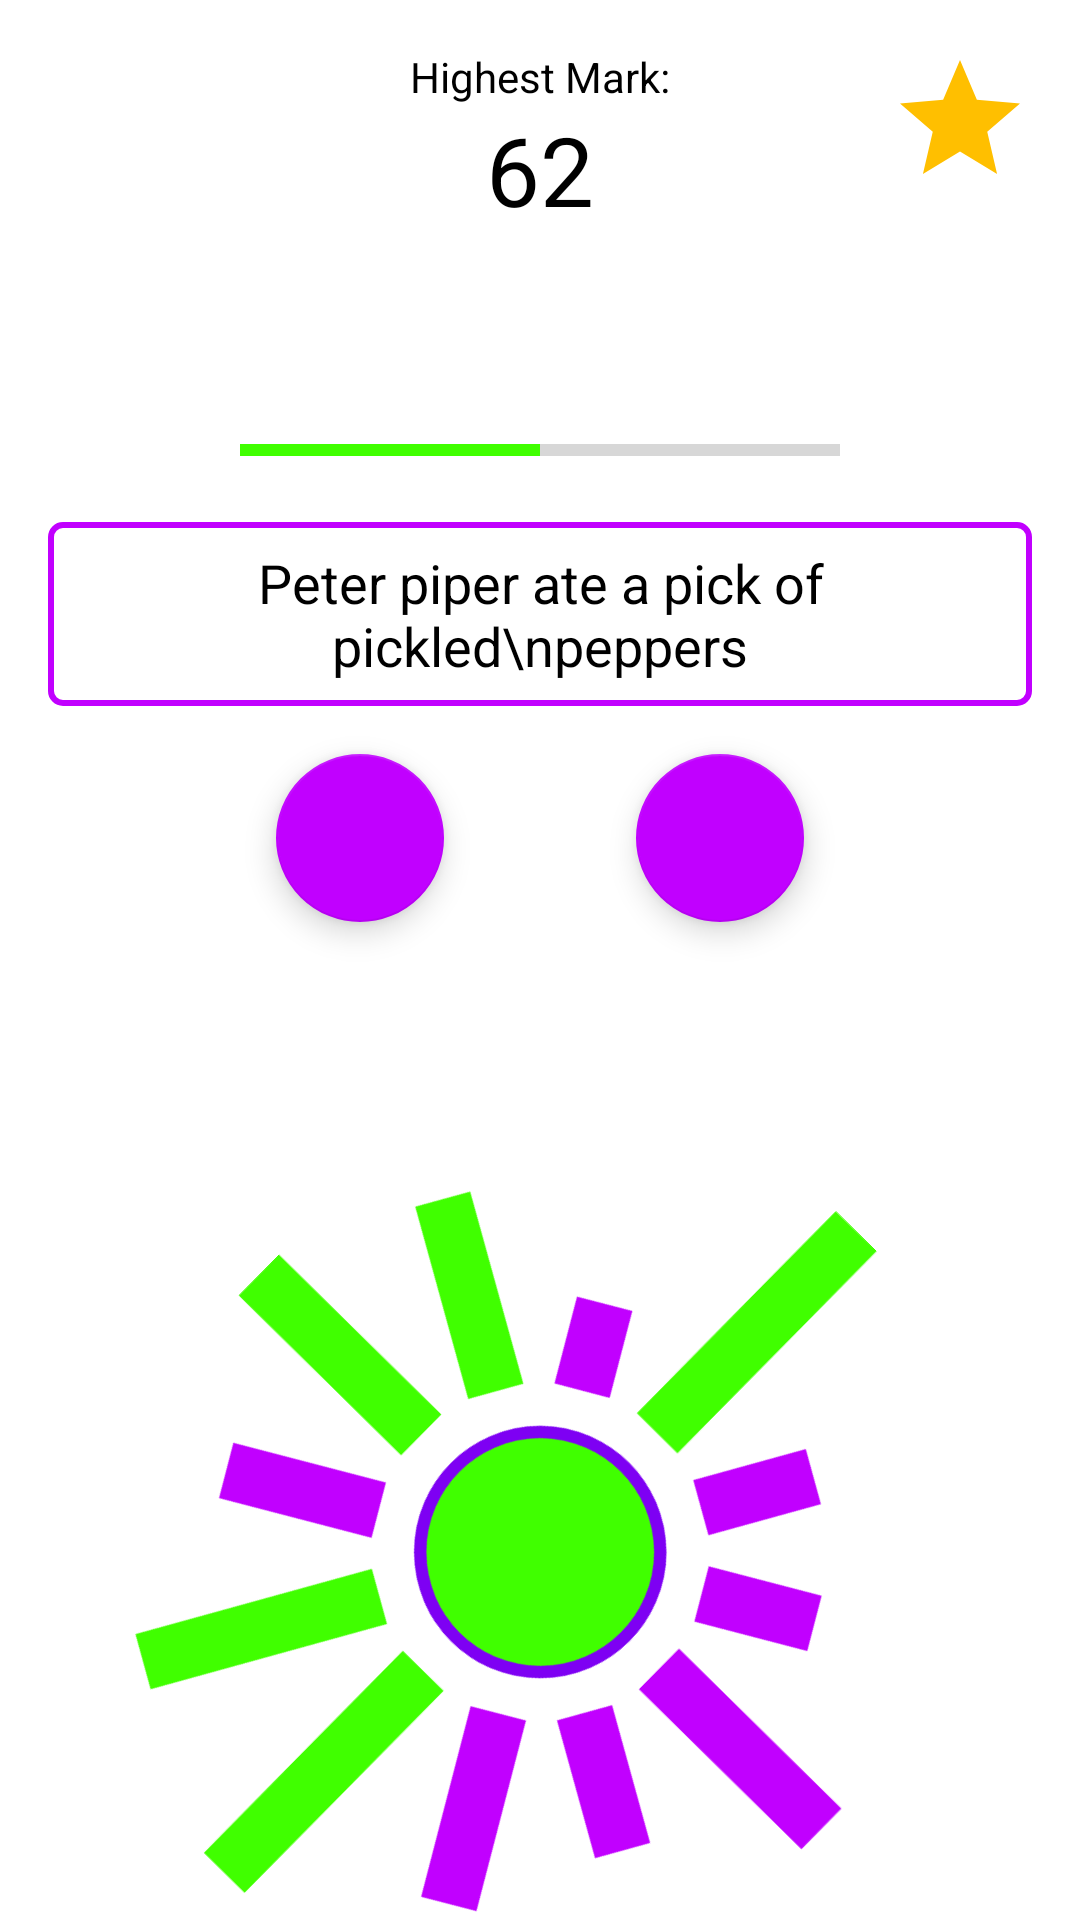

Where icons sit on this 1080 × 1920 app screen, as bbox=[x1, y1, x2, y2]:
star states: bbox=[900, 60, 1020, 174]
